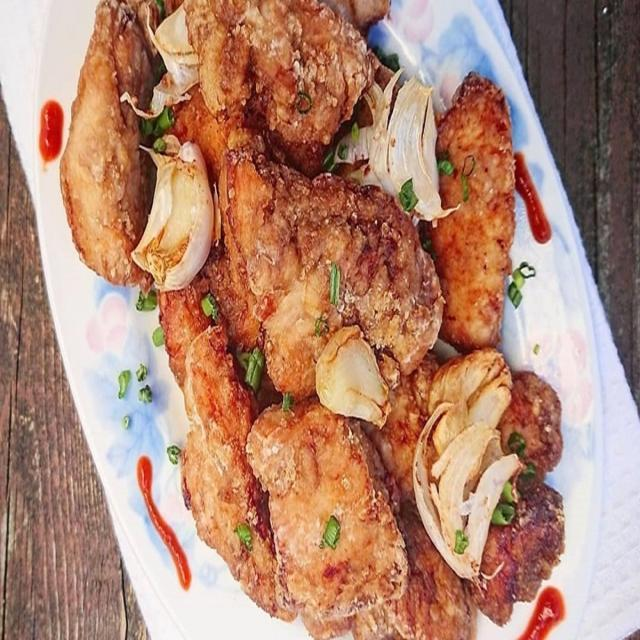ayam_goreng: (87, 29, 544, 638)
